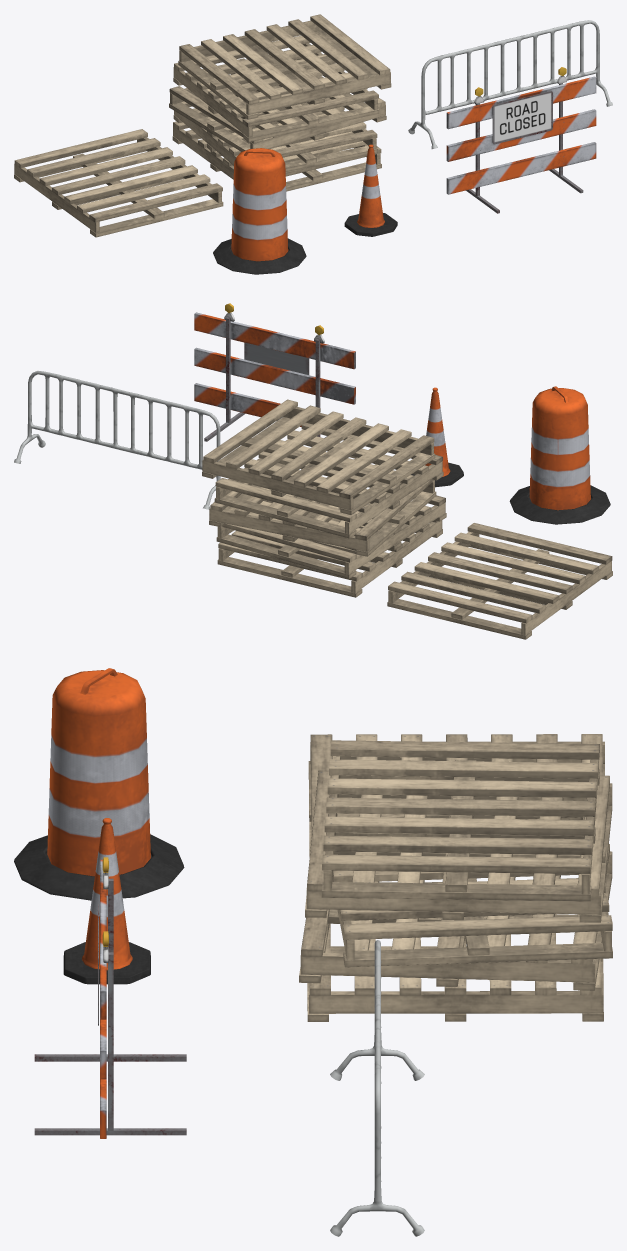
The picture shows the model from 3 angles, top to bottom: view 1: azimuth 30°, elevation 25°; view 2: azimuth 150°, elevation 25°; view 3: azimuth 270°, elevation 25°; orthographic projection. The views are drawn at different scales.
Visible parts, largest first — view 1: construction props low poly.009, construction props low poly.004, construction props low poly, construction props low poly.003, construction props low poly.006, construction props low poly.005; view 2: construction props low poly.009, construction props low poly.004, construction props low poly, construction props low poly.003, construction props low poly.006, construction props low poly.005; view 3: construction props low poly.009, construction props low poly.003, construction props low poly, construction props low poly.005, construction props low poly.004, construction props low poly.006.
Boxes of the visible parts, x1,y1,x2,y2 form: construction props low poly.009: [169, 14, 391, 191]; construction props low poly.004: [14, 129, 223, 237]; construction props low poly: [446, 67, 596, 213]; construction props low poly.003: [213, 148, 306, 274]; construction props low poly.006: [408, 20, 612, 149]; construction props low poly.005: [344, 144, 397, 236]; construction props low poly.009: [202, 399, 446, 597]; construction props low poly.004: [387, 523, 612, 639]; construction props low poly: [194, 303, 355, 441]; construction props low poly.003: [509, 386, 610, 524]; construction props low poly.006: [14, 371, 220, 509]; construction props low poly.005: [411, 387, 463, 487]; construction props low poly.009: [299, 740, 612, 1021]; construction props low poly.003: [14, 668, 184, 900]; construction props low poly: [34, 857, 186, 1138]; construction props low poly.005: [63, 818, 150, 984]; construction props low poly.004: [308, 734, 604, 856]; construction props low poly.006: [330, 940, 424, 1236].
Size of the model in its own units: 6.4 by 1.32 by 3.47.
Materials: 1 (1 with a texture image).
